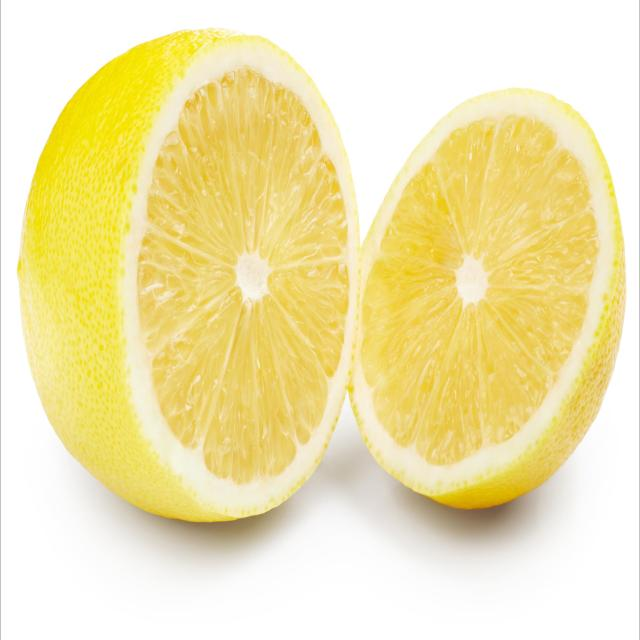lemon: (8, 24, 362, 530), (342, 80, 635, 518)
